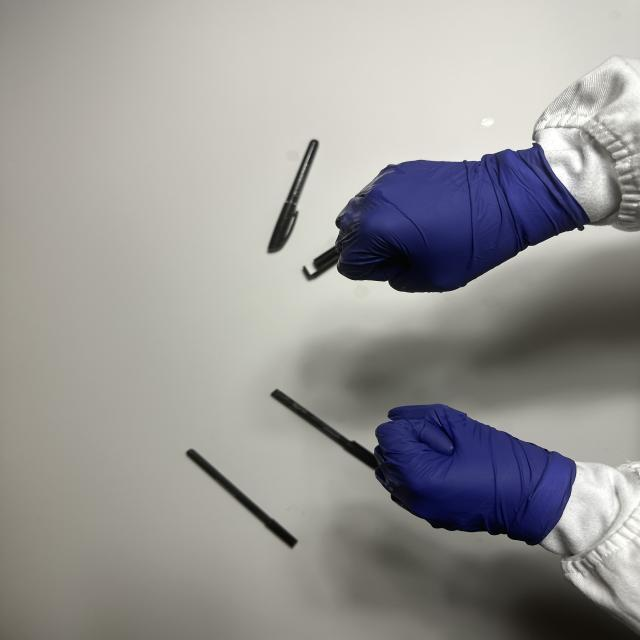gloves_contaminated: (337, 145, 588, 292), (374, 404, 576, 544)
